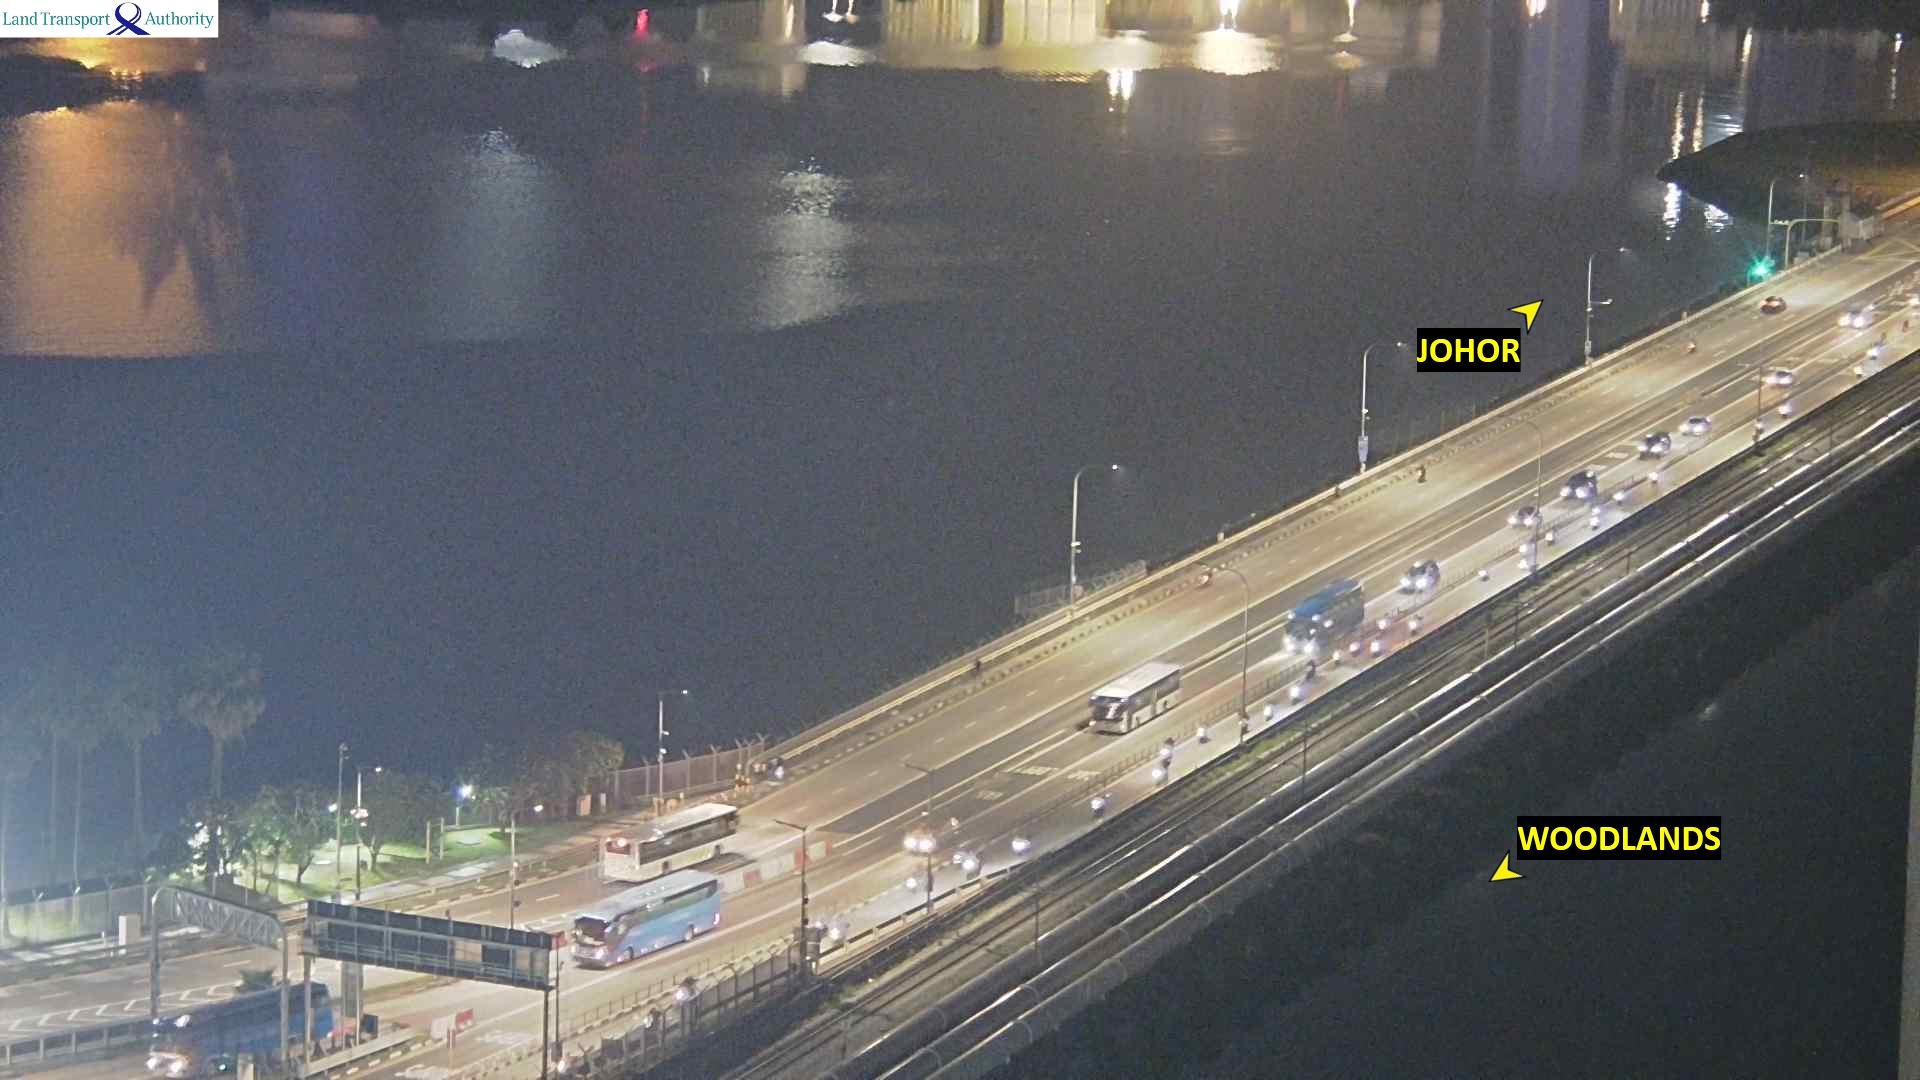vehicle-causeway-johor: (602, 807, 737, 875), (1759, 295, 1784, 312), (1685, 338, 1696, 353), (1416, 464, 1426, 480)
vehicle-causeway-singapore: (149, 982, 325, 1080), (580, 880, 727, 964), (1088, 670, 1186, 734), (1284, 581, 1363, 655), (905, 816, 958, 852), (1404, 558, 1437, 590), (1564, 471, 1595, 499), (1638, 433, 1669, 459), (1840, 304, 1871, 328), (1682, 416, 1710, 435), (1515, 509, 1541, 526), (1162, 738, 1177, 765), (1521, 539, 1532, 570), (1768, 371, 1794, 384), (1260, 700, 1276, 721), (830, 923, 845, 944), (1406, 613, 1420, 634), (1194, 725, 1210, 743), (1777, 399, 1790, 419), (1303, 659, 1316, 679), (1379, 614, 1393, 631), (1370, 638, 1384, 655), (1290, 686, 1302, 703), (1477, 568, 1489, 584), (1591, 507, 1600, 528), (1611, 488, 1623, 503), (1546, 529, 1557, 545), (1853, 363, 1863, 378), (1868, 345, 1878, 358), (1649, 471, 1657, 483)
